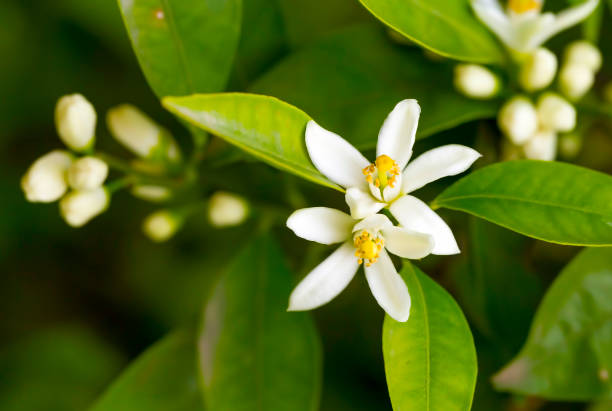flower: (288, 99, 476, 256), (280, 208, 442, 327)
